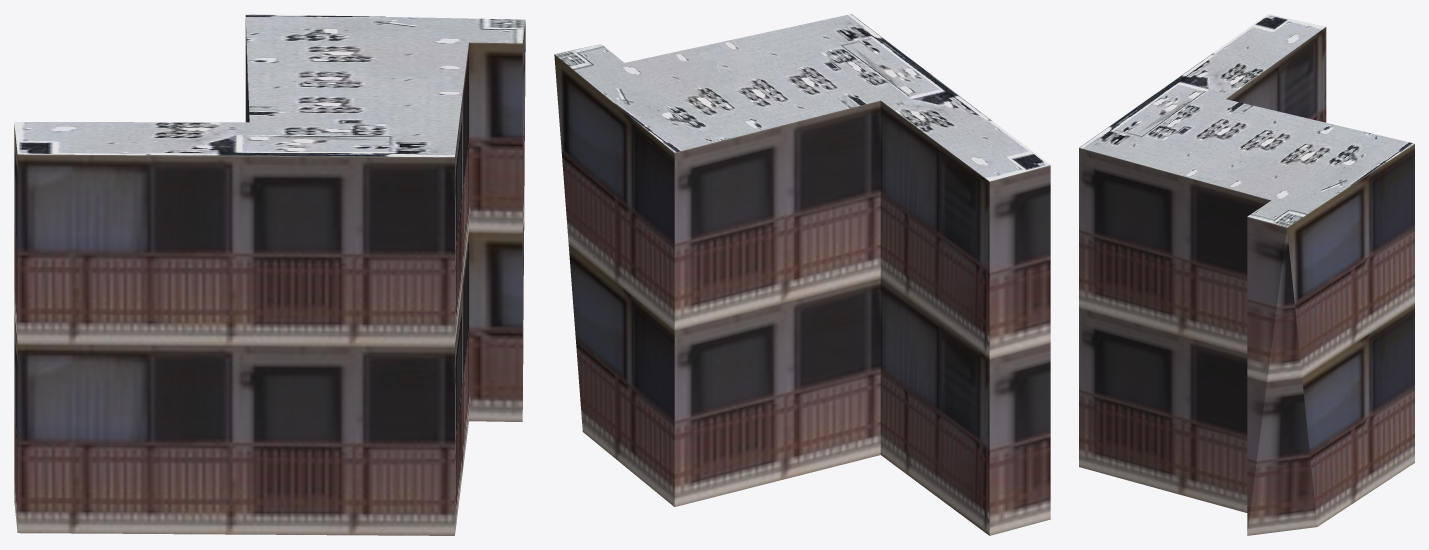
File: ResTex__5253.fbx
The picture shows the model from 3 angles, left to right: view 1: azimuth 30°, elevation 25°; view 2: azimuth 150°, elevation 25°; view 3: azimuth 270°, elevation 25°; orthographic projection. The views are drawn at different scales.
Parts seen in each view (by area): view 1: CityEngineMaterial_6_m, CityEngineMaterial_m; view 2: CityEngineMaterial_6_m, CityEngineMaterial_m; view 3: CityEngineMaterial_6_m, CityEngineMaterial_m.
Boxes of the visible parts, <box> form: CityEngineMaterial_6_m: <box>14,19,525,535</box>; CityEngineMaterial_m: <box>14,14,525,157</box>; CityEngineMaterial_6_m: <box>554,54,1050,535</box>; CityEngineMaterial_m: <box>554,14,1050,181</box>; CityEngineMaterial_6_m: <box>1079,27,1414,535</box>; CityEngineMaterial_m: <box>1079,14,1414,227</box>.
Bounding box in the file's own units: 8.61 × 6 × 5.72.
2 materials, 2 textured.
